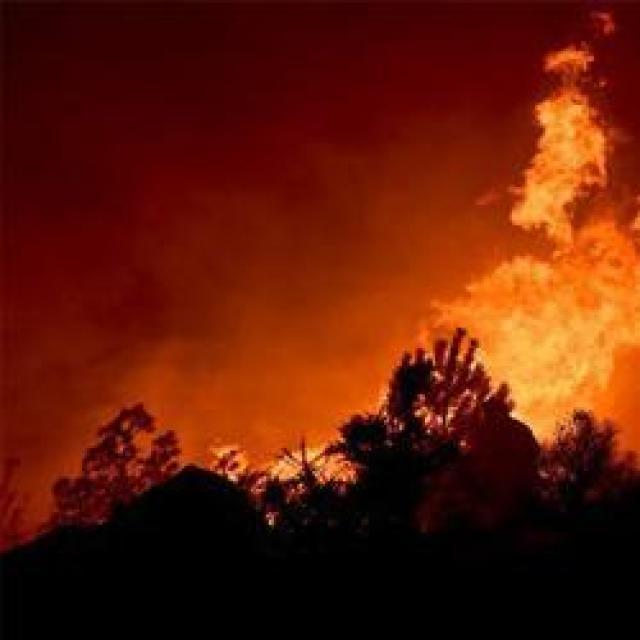Fire: (275, 35, 640, 492)
Smoke: (40, 132, 491, 460)
